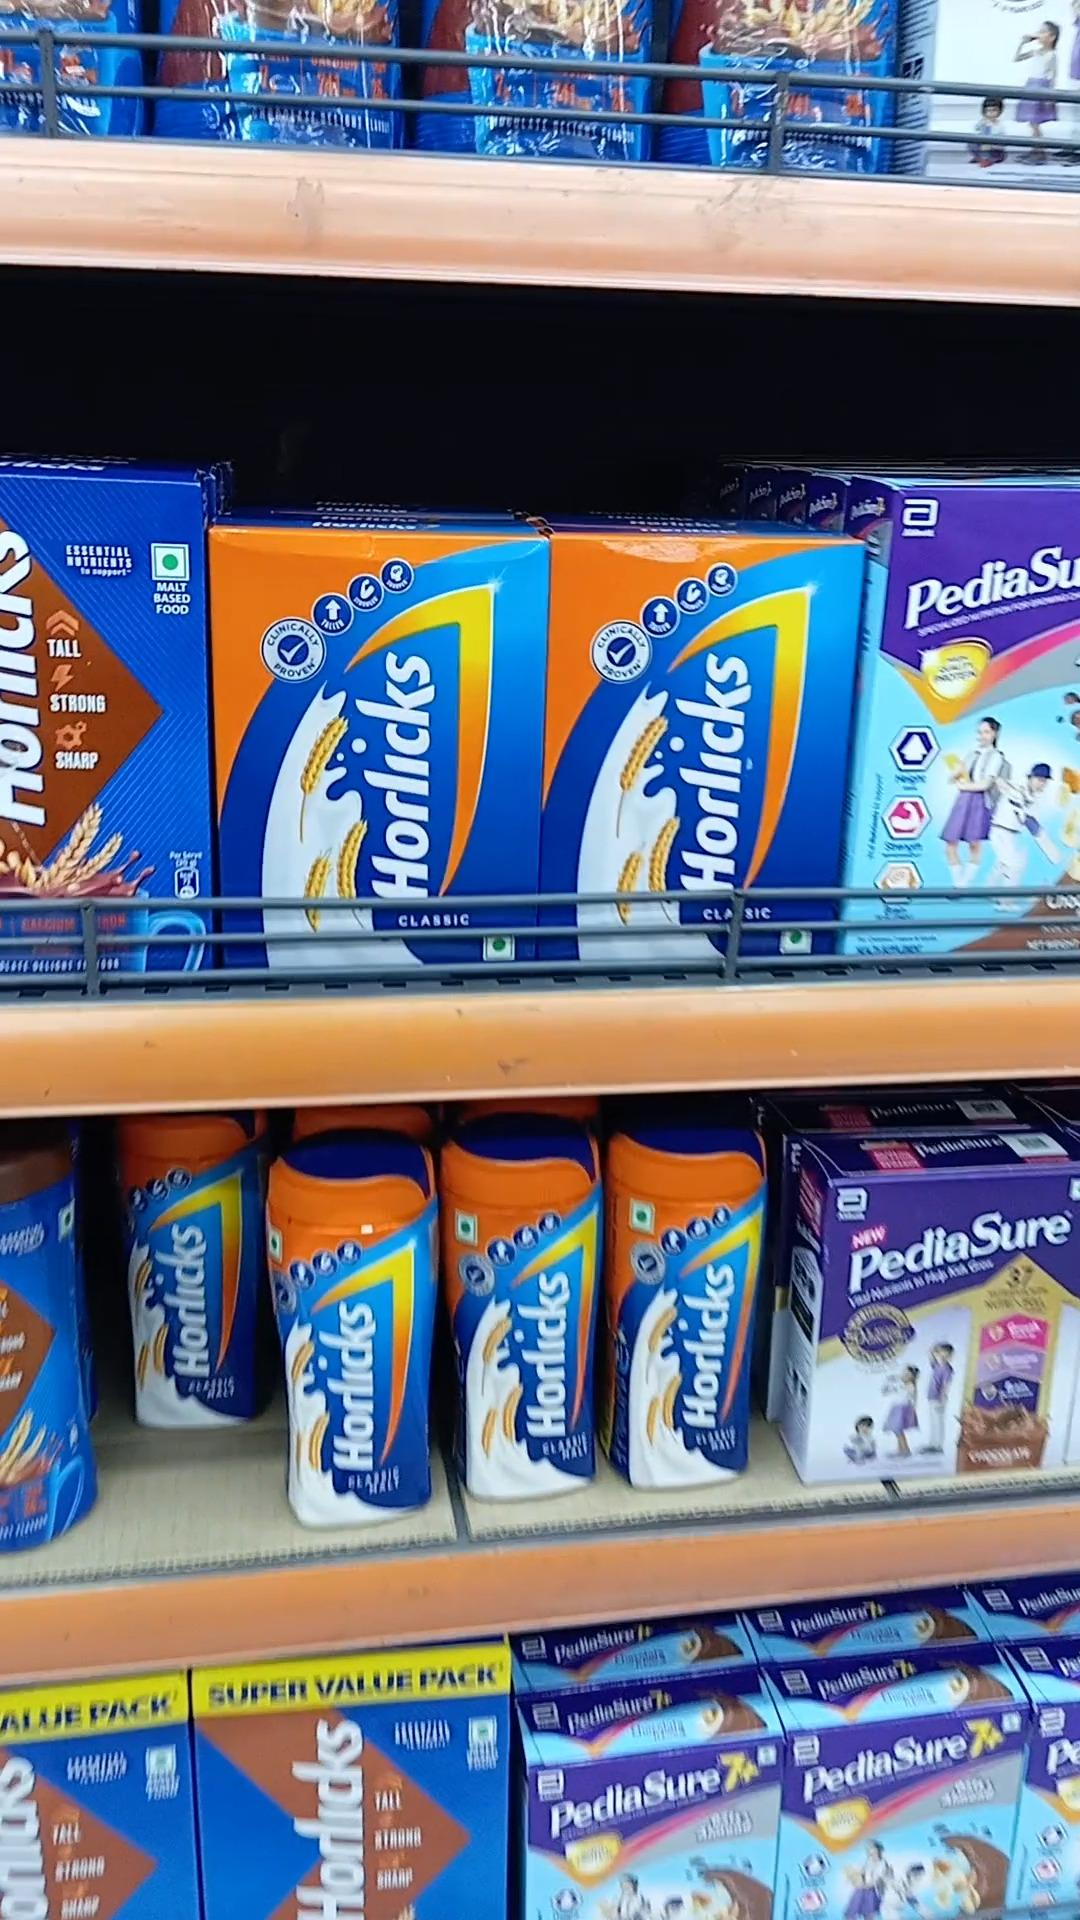HORLICK_CLASSIC_MALT_500_G_JAR: (819, 1174, 1080, 1472), (270, 1121, 433, 1523), (605, 1122, 766, 1501), (444, 1116, 595, 1493), (119, 1114, 252, 1428)
HORLICK_CLASSIC_MALT_500_G_PACK: (211, 537, 542, 984), (553, 538, 843, 978)
